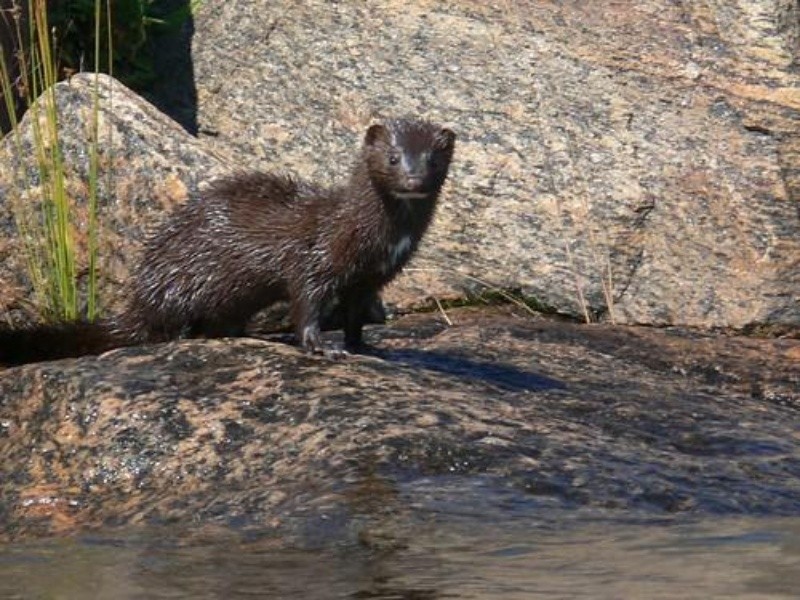minkish: (114, 115, 462, 356)
